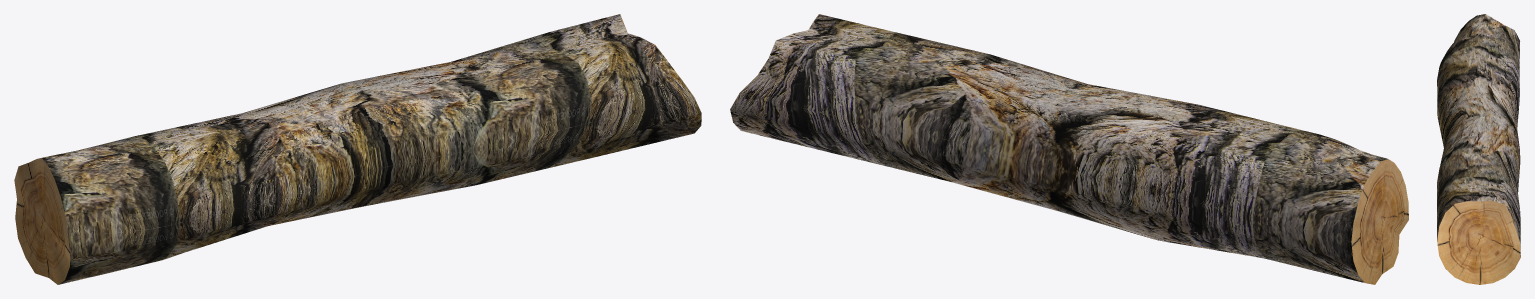
File: log4.fbx
3 renders of one model, left to right at view 1: azimuth 30°, elevation 25°; view 2: azimuth 150°, elevation 25°; view 3: azimuth 270°, elevation 25°, orthographic. The views are drawn at different scales.
Parts seen in each view (by area): view 1: pCylinder13; view 2: pCylinder13; view 3: pCylinder13.
Boxes of the visible parts, x1,y1,x2,y2 form: pCylinder13: (14,14,701,284); pCylinder13: (730,14,1408,284); pCylinder13: (1437,14,1520,284).
Size of the model in its own units: 6.93 by 1.29 by 1.27.
2 materials, 2 textured.
